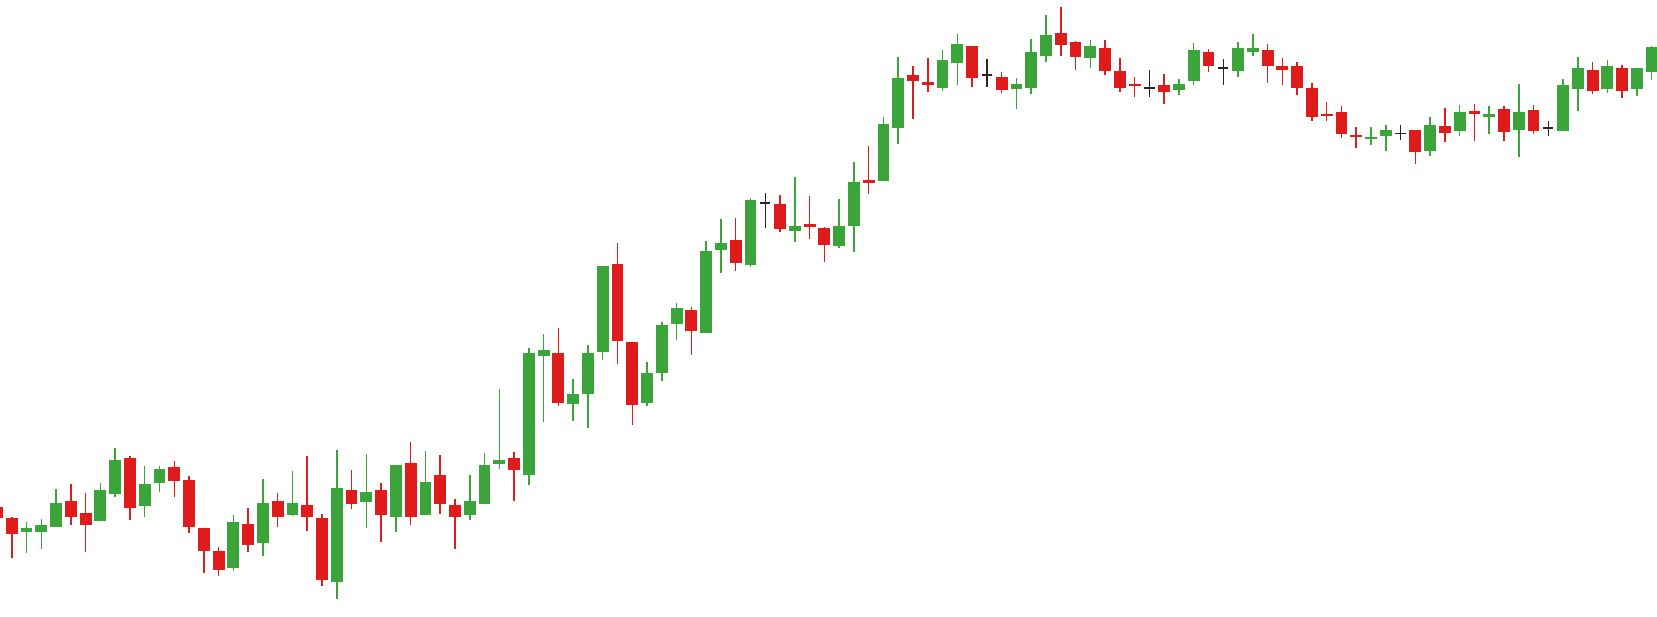buy: (213, 505, 350, 604)
sell: (948, 6, 1070, 80)
